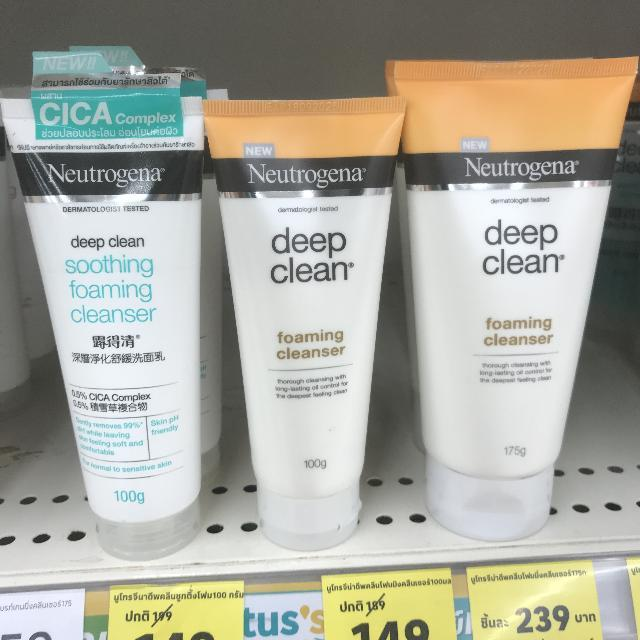Squeeze Tube: (377, 49, 636, 551), (0, 66, 229, 578), (204, 85, 404, 574)
